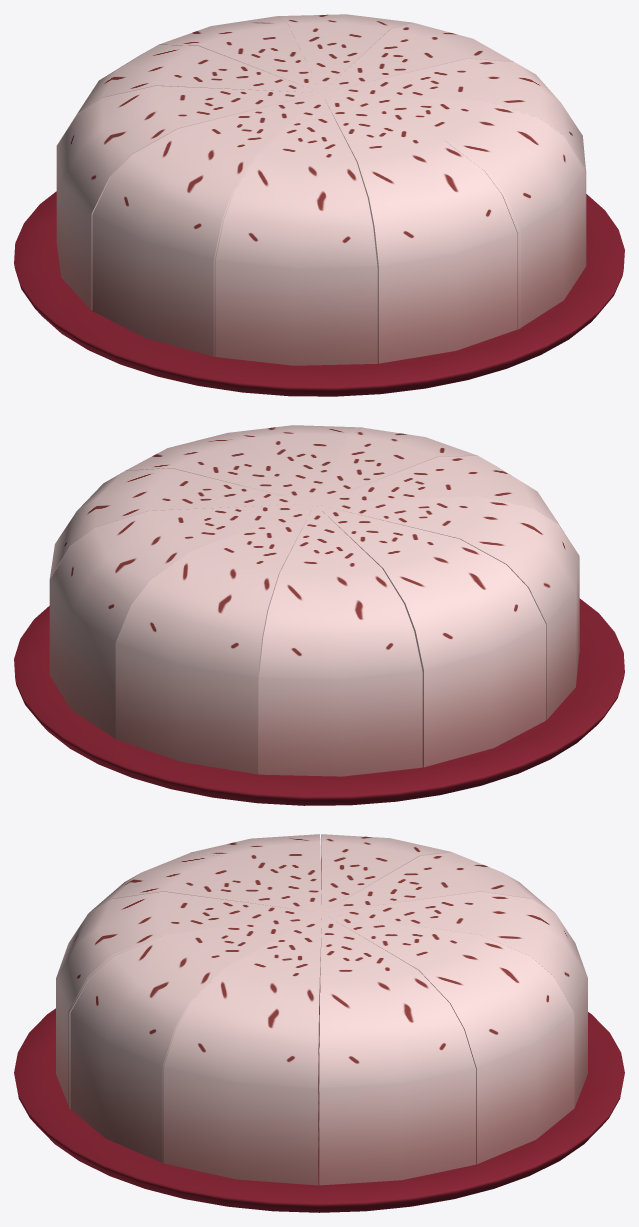
File: Cake_70s_v1.fbx
3 views of the same model, one above another, from view 1: azimuth 30°, elevation 25°; view 2: azimuth 150°, elevation 25°; view 3: azimuth 270°, elevation 25° (orthographic).
Parts seen in each view (by area): view 1: P_CakeSlice_7_70s, P_CakeSlice_8_70s, P_CakeSlice_6_70s, P_CakePlate_70s, P_CakeSlice_9_70s, P_CakeSlice_5_70s, P_CakeSlice_10_70s, P_CakeSlice_4_70s, P_CakeSlice_1_70s, P_CakeSlice_3_70s, P_CakeSlice_2_70s1; view 2: P_CakeSlice_4_70s, P_CakeSlice_3_70s, P_CakeSlice_5_70s, P_CakePlate_70s, P_CakeSlice_2_70s1, P_CakeSlice_6_70s, P_CakeSlice_1_70s, P_CakeSlice_7_70s, P_CakeSlice_10_70s, P_CakeSlice_8_70s, P_CakeSlice_9_70s; view 3: P_CakeSlice_10_70s, P_CakeSlice_1_70s, P_CakePlate_70s, P_CakeSlice_2_70s1, P_CakeSlice_9_70s, P_CakeSlice_8_70s, P_CakeSlice_3_70s, P_CakeSlice_4_70s, P_CakeSlice_7_70s, P_CakeSlice_5_70s, P_CakeSlice_6_70s.
Part boxes in pixels (x1,y1,x2,y2): P_CakeSlice_7_70s: (213,93,377,365); P_CakeSlice_8_70s: (322,93,520,363); P_CakeSlice_6_70s: (92,93,320,356); P_CakePlate_70s: (14,191,624,396); P_CakeSlice_9_70s: (322,93,586,329); P_CakeSlice_5_70s: (56,86,320,310); P_CakeSlice_10_70s: (322,58,585,266); P_CakeSlice_4_70s: (56,45,320,145); P_CakeSlice_1_70s: (322,22,534,92); P_CakeSlice_3_70s: (158,16,321,92); P_CakeSlice_2_70s1: (277,14,412,92); P_CakeSlice_4_70s: (258,504,422,776); P_CakeSlice_3_70s: (115,504,314,774); P_CakeSlice_5_70s: (315,504,545,767); P_CakePlate_70s: (14,598,624,805); P_CakeSlice_2_70s1: (49,504,313,738); P_CakeSlice_6_70s: (316,496,579,719); P_CakeSlice_1_70s: (49,468,313,578); P_CakeSlice_7_70s: (315,456,579,652); P_CakeSlice_10_70s: (125,433,314,503); P_CakeSlice_8_70s: (315,427,477,503); P_CakeSlice_9_70s: (227,425,362,503); P_CakeSlice_10_70s: (162,913,321,1185); P_CakeSlice_1_70s: (319,913,475,1185); P_CakePlate_70s: (14,1008,624,1212); P_CakeSlice_2_70s1: (323,913,574,1164); P_CakeSlice_9_70s: (68,913,320,1163); P_CakeSlice_8_70s: (56,891,321,1108); P_CakeSlice_3_70s: (322,891,587,1107); P_CakeSlice_4_70s: (323,852,554,912); P_CakeSlice_7_70s: (88,852,320,913); P_CakeSlice_5_70s: (321,834,450,912); P_CakeSlice_6_70s: (191,834,321,912).
Bounding box in the file's own units: 4.14 × 1.42 × 4.14.
